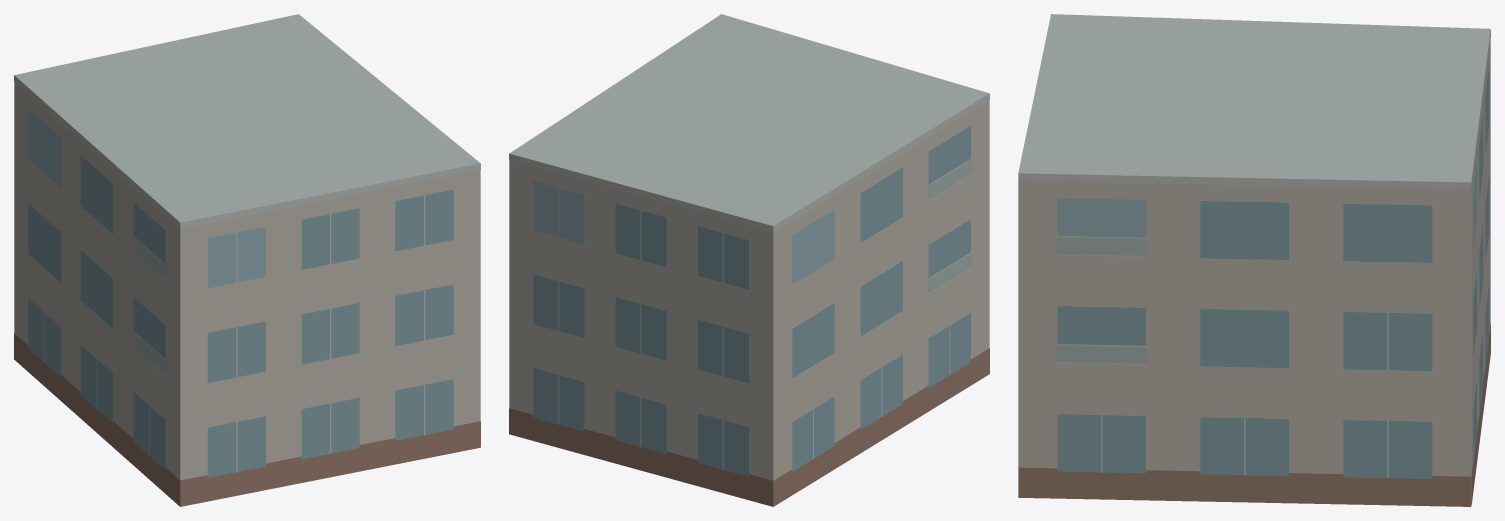
The model's file is survey-upis-32764698.glb.
3 renders of one model, left to right at view 1: azimuth 30°, elevation 25°; view 2: azimuth 150°, elevation 25°; view 3: azimuth 270°, elevation 25°, orthographic. The views are drawn at different scales.
Visible parts, largest first — view 1: survey-upis-32764698.tmp; view 2: survey-upis-32764698.tmp; view 3: survey-upis-32764698.tmp.
Part boxes in pixels (<box>): survey-upis-32764698.tmp: <box>14,14,480,506</box>; survey-upis-32764698.tmp: <box>509,14,989,506</box>; survey-upis-32764698.tmp: <box>1018,14,1490,506</box>.
Size of the model in its own units: 11.71 by 10.5 by 13.87.
